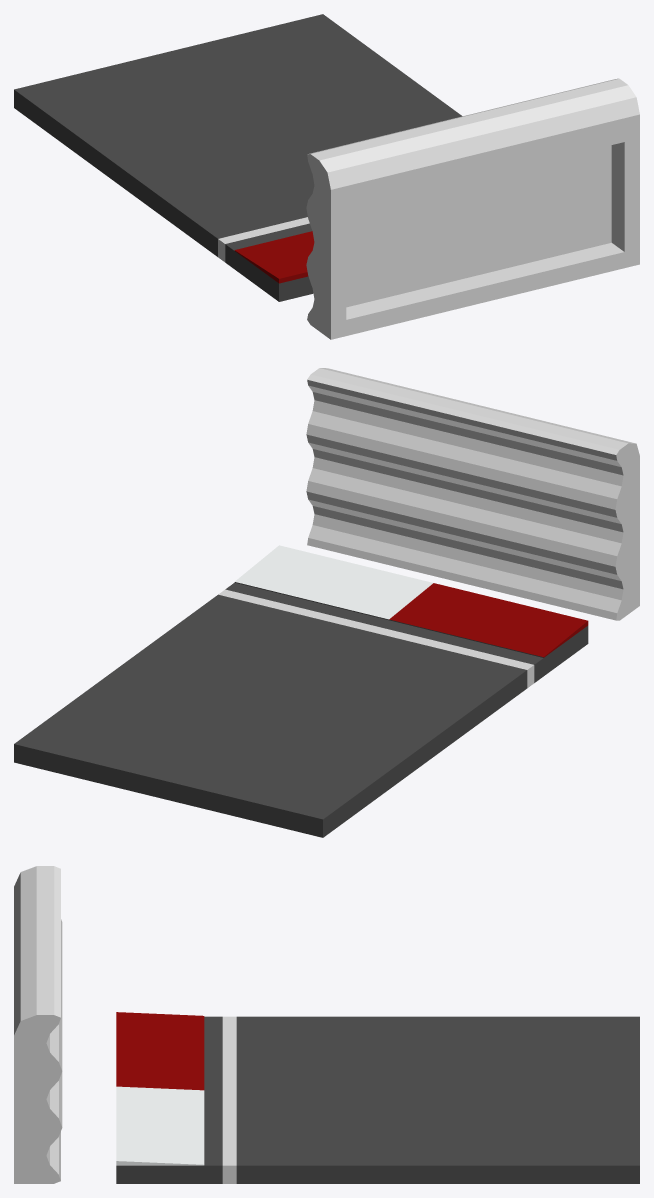
Rendered from Race_Track.glb.
3 views of the same model, one above another, from view 1: azimuth 30°, elevation 25°; view 2: azimuth 150°, elevation 25°; view 3: azimuth 270°, elevation 25° (orthographic).
Parts seen in each view (by area): view 1: Cube; view 2: Cube; view 3: Cube.
Boxes of the visible parts, x1,y1,x2,y2 form: Cube: (14,14,639,339); Cube: (14,368,639,837); Cube: (14,866,639,1183).
Bounding box in the file's own units: 2 × 1.06 × 3.55.
